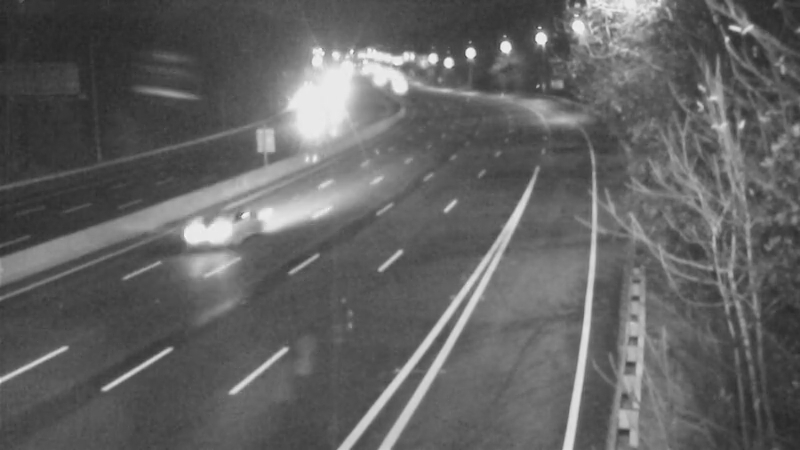vehicle: (156, 191, 236, 271)
